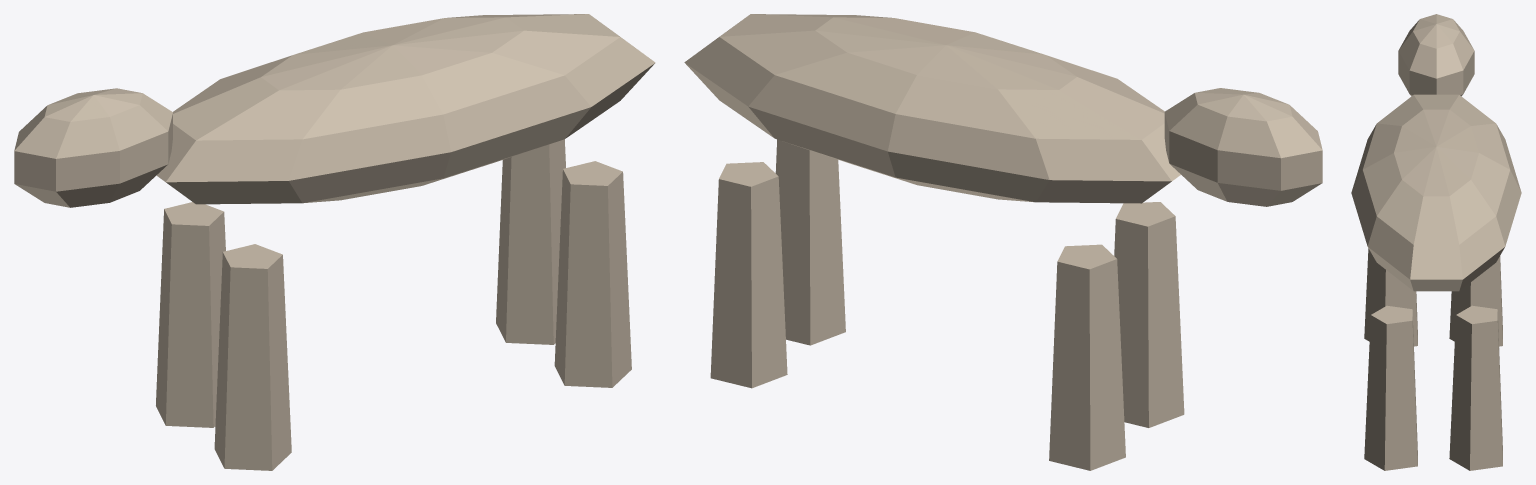
Rendered from cow.glb.
3 views of the same model, side by side, from view 1: azimuth 30°, elevation 25°; view 2: azimuth 150°, elevation 25°; view 3: azimuth 270°, elevation 25° (orthographic). The views are drawn at different scales.
Parts seen in each view (by area): view 1: cow; view 2: cow; view 3: cow.
Part boxes in pixels (x1,y1,x2,y2): cow: [14, 14, 655, 470]; cow: [684, 14, 1322, 470]; cow: [1351, 14, 1521, 470].
Bounding box in the file's own units: 2.3 × 1.31 × 0.75.
